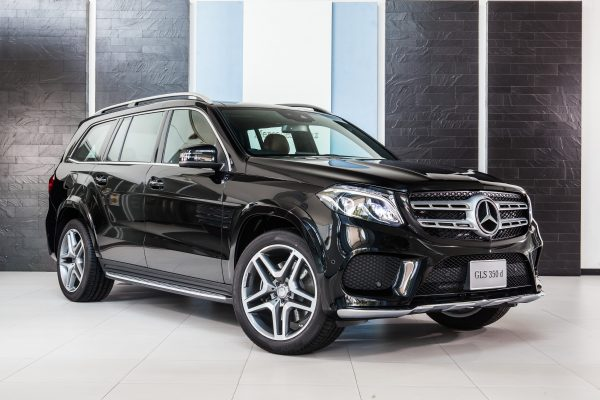pickup: (43, 89, 547, 354)
